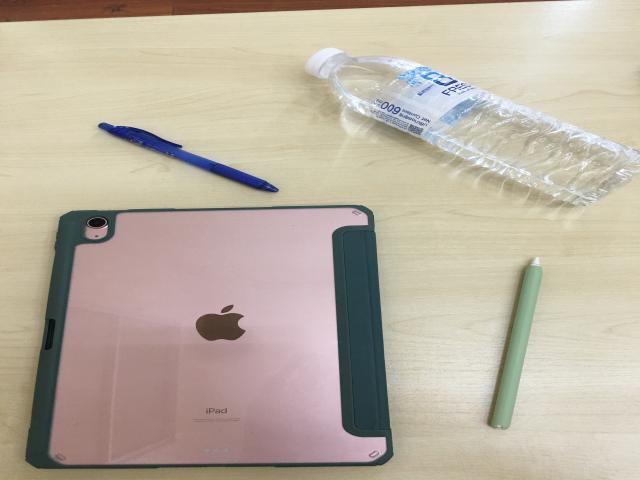Pen: (97, 123, 278, 194)
bottle: (306, 48, 640, 208)
